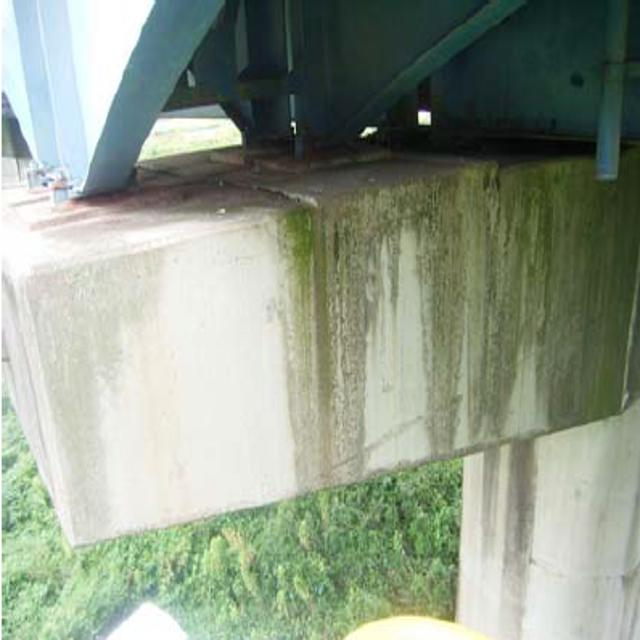leakage: (280, 189, 636, 424)
